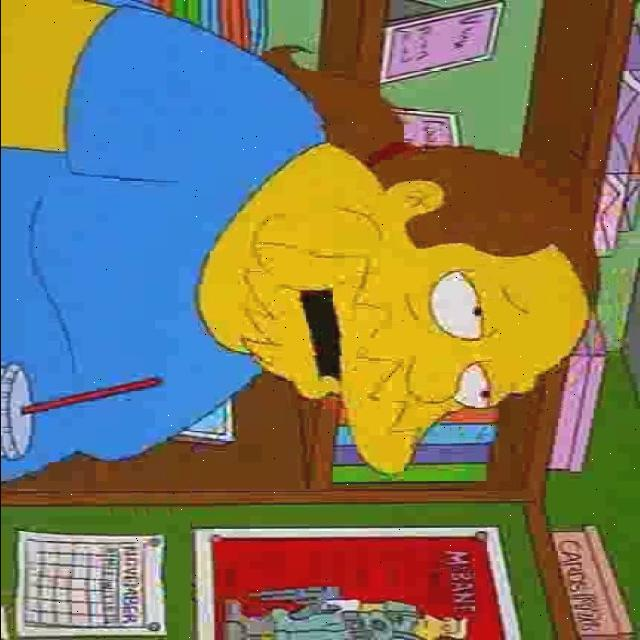Comic Book Guy: (190, 124, 598, 478)
